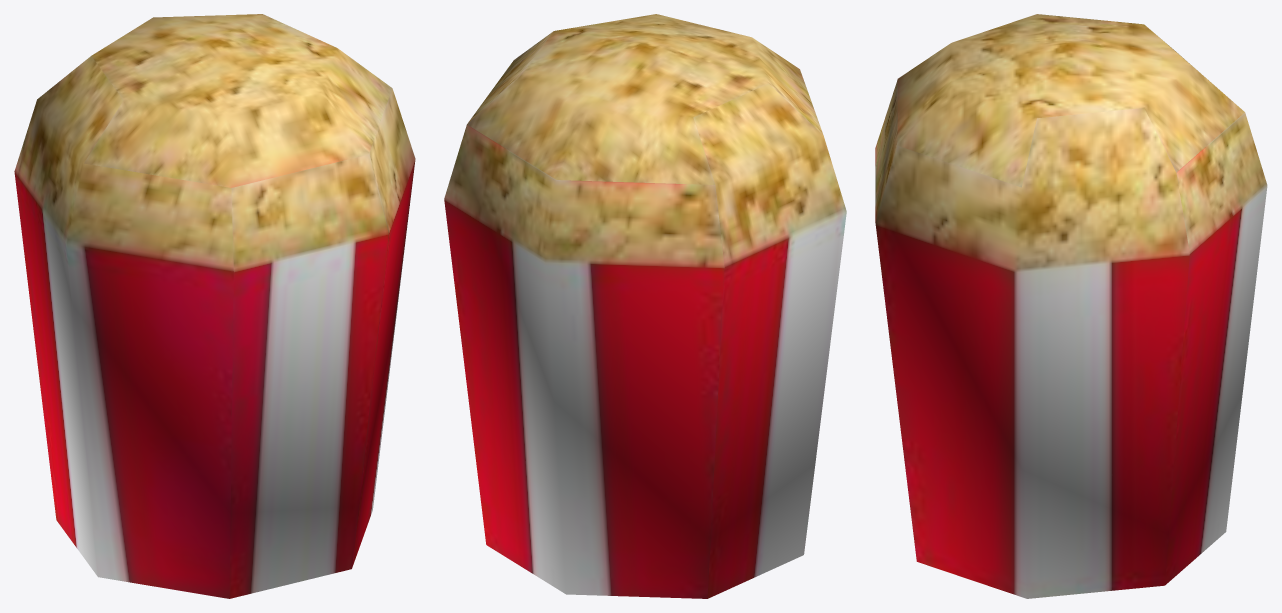
File: Popcorn.glb
3 renders of one model, left to right at view 1: azimuth 30°, elevation 25°; view 2: azimuth 150°, elevation 25°; view 3: azimuth 270°, elevation 25°, orthographic.
Visible parts, largest first — view 1: Popcorn; view 2: Popcorn; view 3: Popcorn.
Boxes of the visible parts, x1,y1,x2,y2 form: Popcorn: [14, 14, 415, 598]; Popcorn: [444, 14, 846, 598]; Popcorn: [875, 14, 1267, 598].
Size of the model in its own units: 0.2197 by 0.2936 by 0.2142.
1 material, 1 textured.
